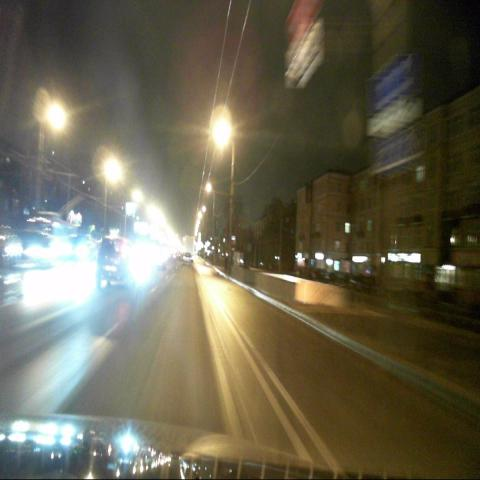6_6: (396, 131, 422, 173)
